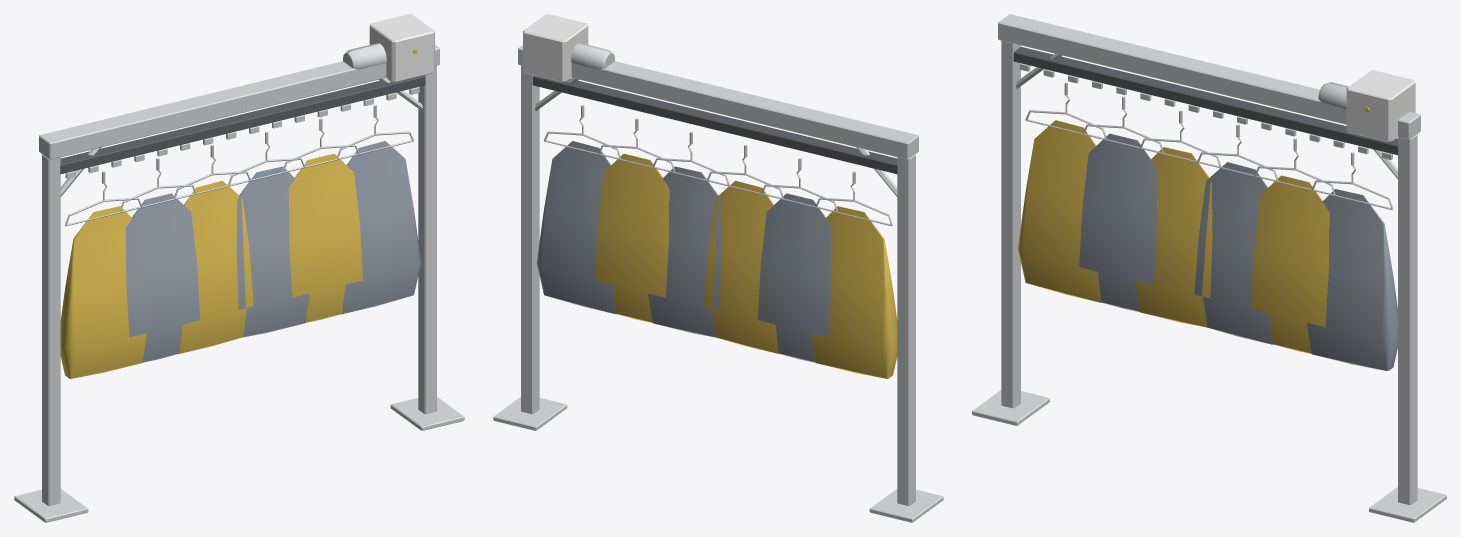
The model's file is laundrette-and-cleaning-garment-conveyor-rail-b10f1da5__25537.glb.
The picture shows the model from 3 angles, left to right: view 1: azimuth 30°, elevation 25°; view 2: azimuth 150°, elevation 25°; view 3: azimuth 330°, elevation 25°; orthographic projection. The views are drawn at different scales.
Parts seen in each view (by area): view 1: garment-conveyor-rail; view 2: garment-conveyor-rail; view 3: garment-conveyor-rail.
Boxes of the visible parts, box(x1,y1,x2,y2) form: garment-conveyor-rail: box(14, 14, 464, 522); garment-conveyor-rail: box(493, 14, 943, 522); garment-conveyor-rail: box(972, 14, 1446, 522).
Bounding box in the file's own units: 2.32 × 2.08 × 0.2999.
